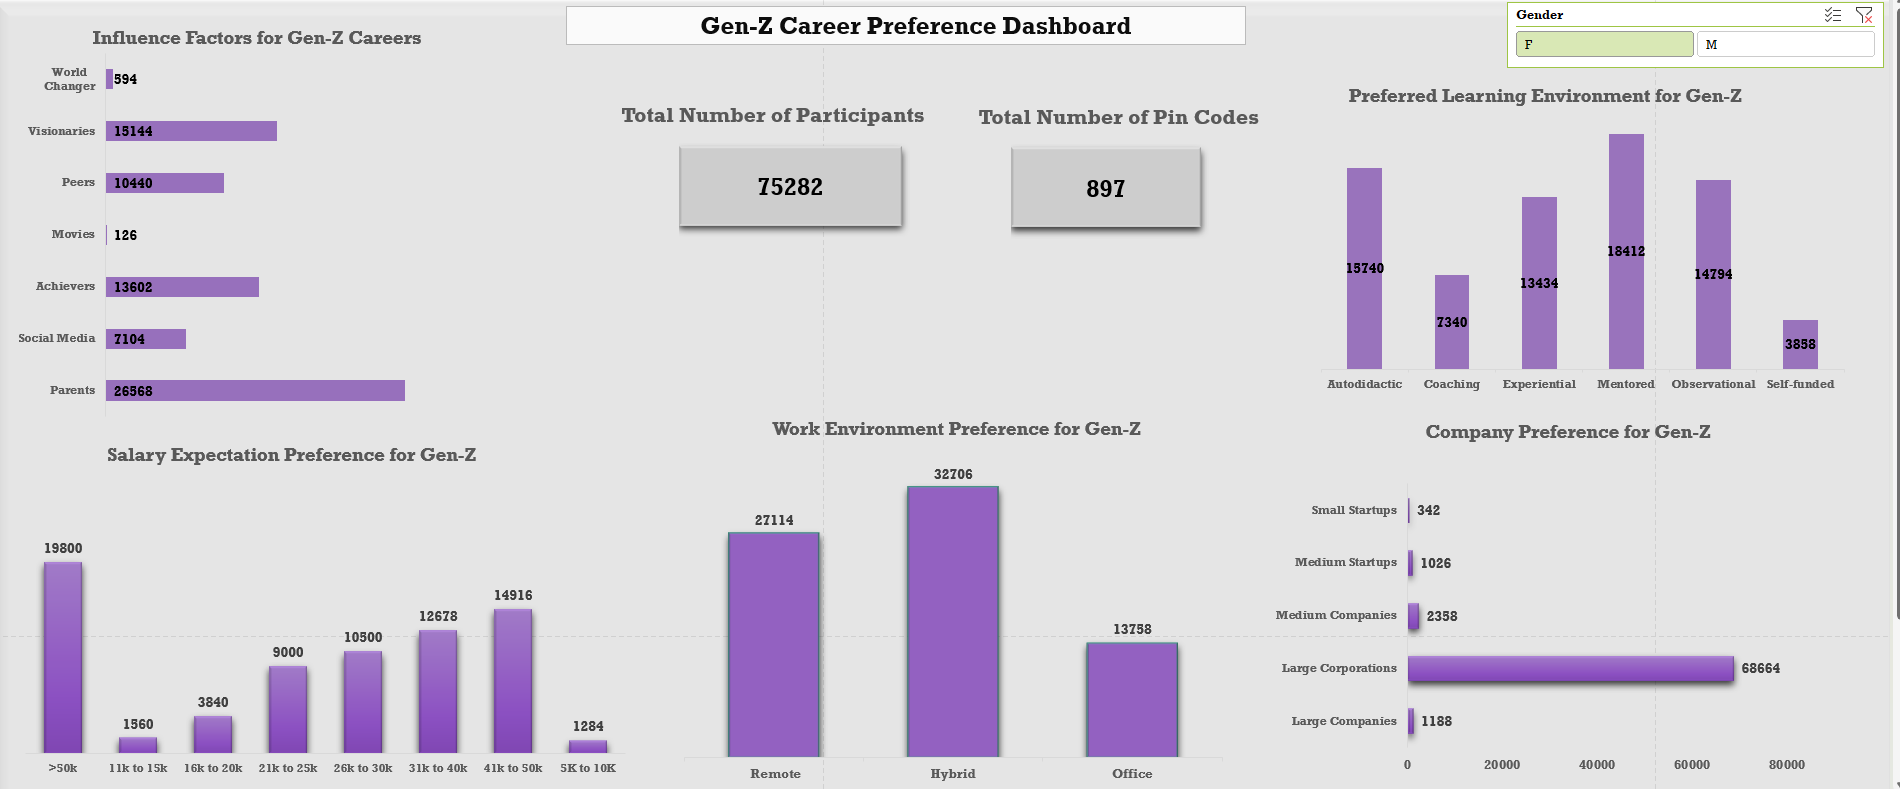

The dashboard page shown, as its layout file describes it:
{"tool":"powerbi","page":{"name":"Dash1","canvas":[1280,720],"ordinal":0},"visuals":[{"type":"shape","box":[7,154,400,194],"z":0},{"type":"textbox","box":[0,0,1273.3,34.6],"z":1000},{"type":"shape","box":[0,0,1273,35],"z":2000},{"type":"barChart","title":"Preferred Work Environment for Gen-Z","fields":{"Category":["SourceData.Work Environment"],"Y":["CountNonNull(SourceData.Work Environment)"]},"box":[430,437.1,394.6,275.8],"z":3000},{"type":"columnChart","title":"Work Setup Preference of Gen-Z","fields":{"Category":["SourceData.Work Setup"],"Y":["CountNonNull(SourceData.Work Setup)"]},"box":[835.3,437.1,438,275.8],"z":4000},{"type":"columnChart","title":"Gen-Z Company Preference","fields":{"Category":["SourceData.Preferred type of Company"],"Y":["CountNonNull(SourceData.Preferred type of Company)"]},"box":[7.1,437.1,415.9,275.8],"z":5000},{"type":"barChart","title":"Preferred Salary Expectations of Gen - Z","fields":{"Category":["SourceData.Salary for Mid Careers"],"Y":["CountNonNull(SourceData.Salary for Mid Careers)"]},"box":[7.1,150.7,416.7,277.5],"z":6000},{"type":"columnChart","title":"Preferred Learning Environment for Gen-Z","fields":{"Category":["SourceData.Learning Environment"],"Y":["CountNonNull(SourceData.Learning Environment)"]},"box":[433.6,150.7,388.4,277.5],"z":7000},{"type":"barChart","title":"Most Influence Factors for Gen-Z","fields":{"Category":["SourceData.Influence Factors"],"Y":["CountNonNull(SourceData.Influence Factors)"]},"box":[828.2,152.5,445.1,274],"z":8000},{"type":"cardVisual","fields":{"Data":["SourceData.Total Number of Participants"]},"box":[125.9,42.6,313.9,84.2],"z":9000},{"type":"cardVisual","fields":{"Data":["SourceData.The Number of Pincodes"]},"box":[454,42.6,287.3,84.2],"z":10000},{"type":"slicer","fields":{"Values":["SourceData. Gender"]},"box":[885,43,376,63],"z":11000}]}

Visuals, with their boxes on the page's 1280x720 design canvas (x1, y1, x2, y2). These are canvas units, not pixel positions in the 1900x789 screenshot, which may show the page scaled, cropped or inside an application window:
shape: [7,154,407,348]
textbox: [0,0,1273,35]
shape: [0,0,1273,35]
"Preferred Work Environment for Gen-Z" barChart: [430,437,825,713]
"Work Setup Preference of Gen-Z" columnChart: [835,437,1273,713]
"Gen-Z Company Preference" columnChart: [7,437,423,713]
"Preferred Salary Expectations of Gen - Z" barChart: [7,151,424,428]
"Preferred Learning Environment for Gen-Z" columnChart: [434,151,822,428]
"Most Influence Factors for Gen-Z" barChart: [828,152,1273,426]
cardVisual - SourceData.Total Number of Participants: [126,43,440,127]
cardVisual - SourceData.The Number of Pincodes: [454,43,741,127]
slicer - SourceData. Gender: [885,43,1261,106]
